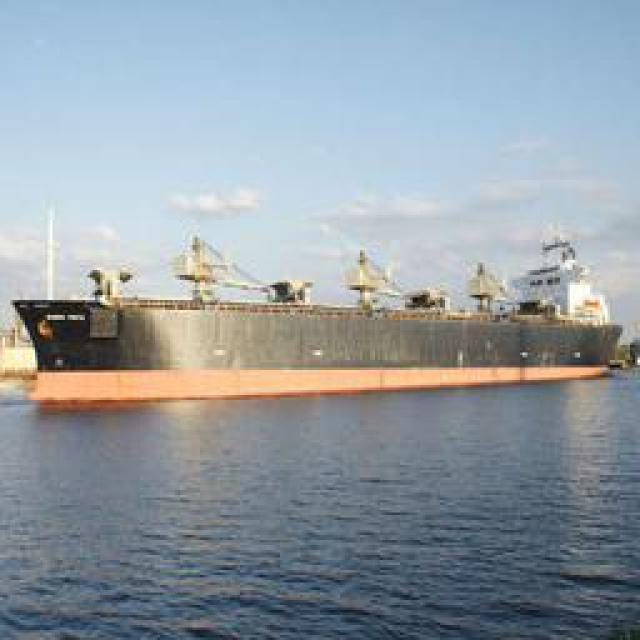Ship: (20, 250, 623, 405)
